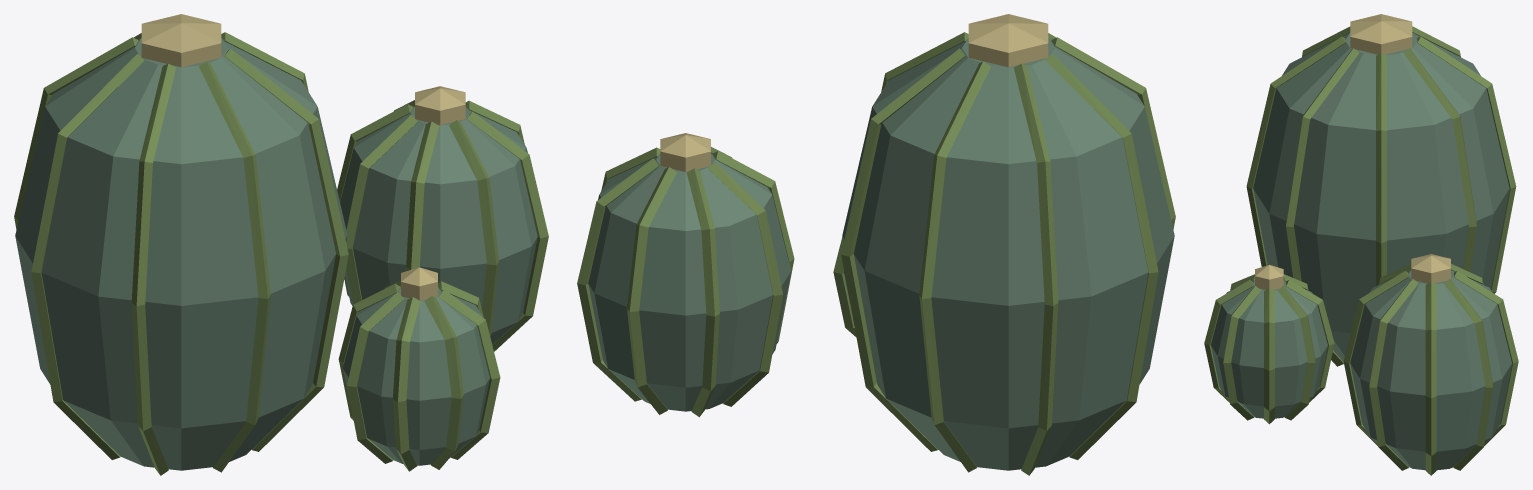
Rendered from Plant_Feature_Desert_BarrelCactus_001_LOD1.glb.
3 views of the same model, side by side, from view 1: azimuth 30°, elevation 25°; view 2: azimuth 150°, elevation 25°; view 3: azimuth 270°, elevation 25° (orthographic). The views are drawn at different scales.
Parts seen in each view (by area): view 1: Plant_Feature_Desert_BarrelCactus_001_LOD1; view 2: Plant_Feature_Desert_BarrelCactus_001_LOD1; view 3: Plant_Feature_Desert_BarrelCactus_001_LOD1.
Part boxes in pixels (x1,y1,x2,y2): Plant_Feature_Desert_BarrelCactus_001_LOD1: (14,14,548,475); Plant_Feature_Desert_BarrelCactus_001_LOD1: (577,14,1175,475); Plant_Feature_Desert_BarrelCactus_001_LOD1: (1204,14,1518,475).
Bounding box in the file's own units: 1.94 × 1.45 × 1.26.
